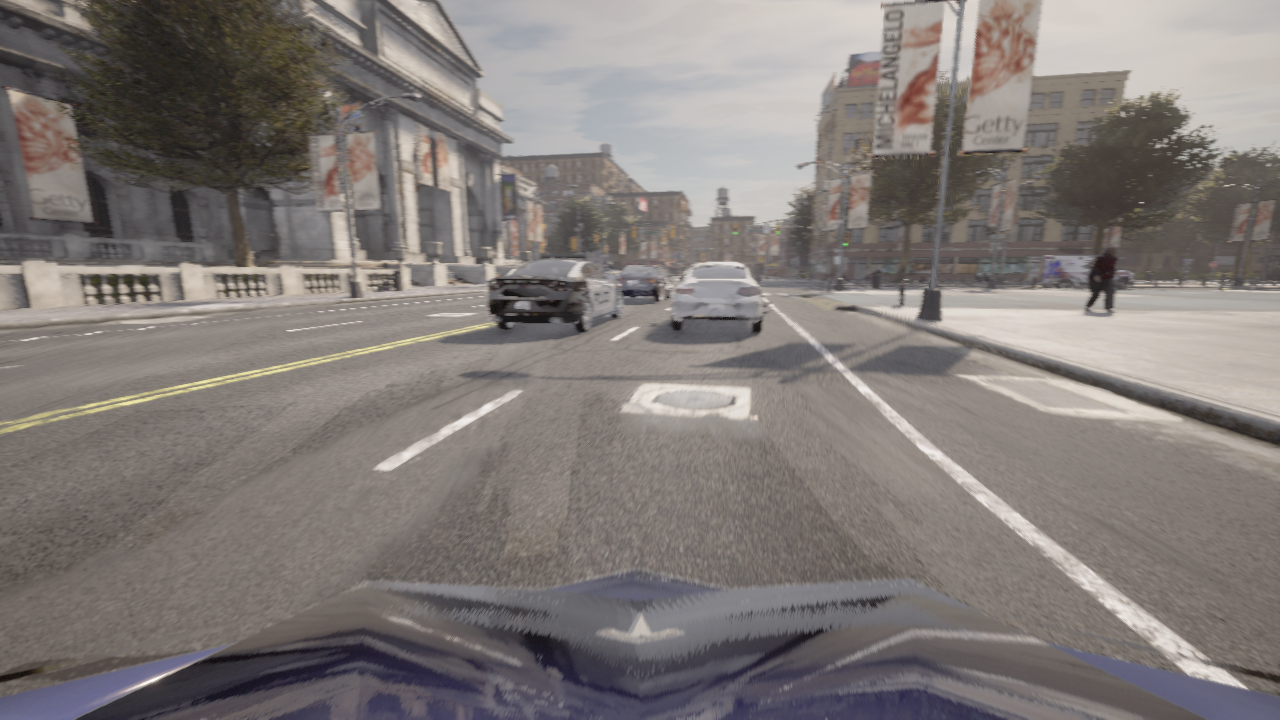cyclist: (0, 569, 1279, 719), (486, 254, 621, 332), (664, 261, 770, 333), (1020, 256, 1133, 289), (614, 266, 671, 301), (682, 268, 689, 276)
pedestrian: (1083, 246, 1117, 313)
